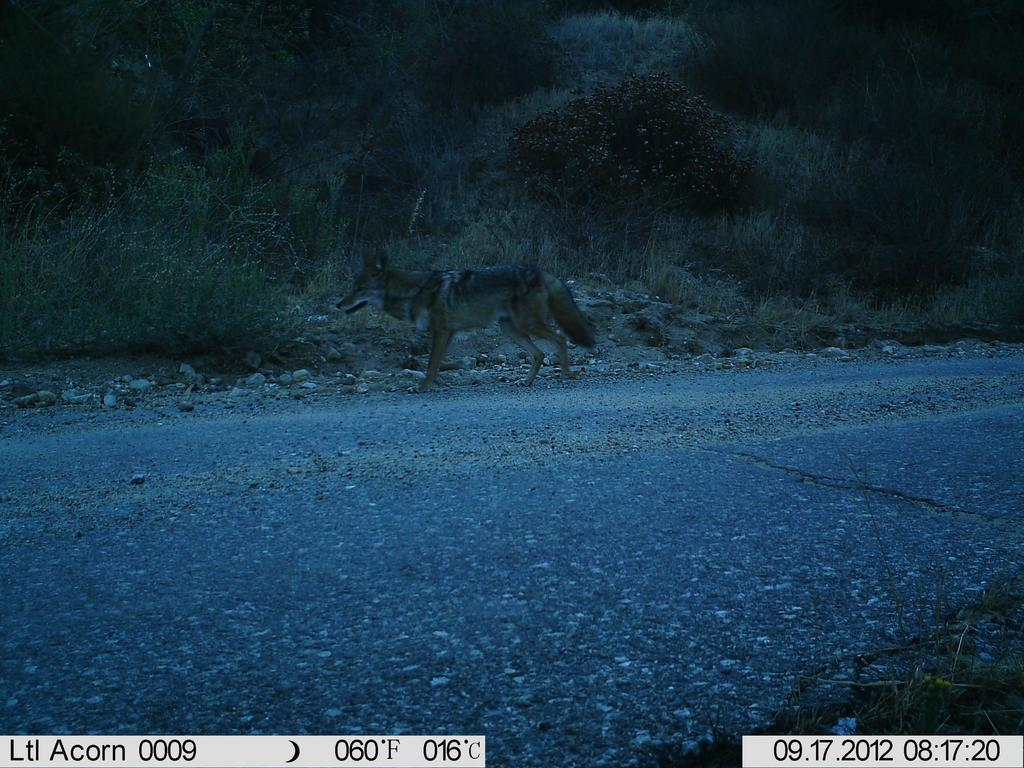coyote: (332, 240, 602, 393)
